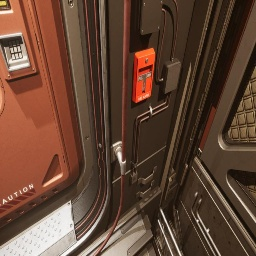FireAlarm ,: (132, 48, 155, 103)
